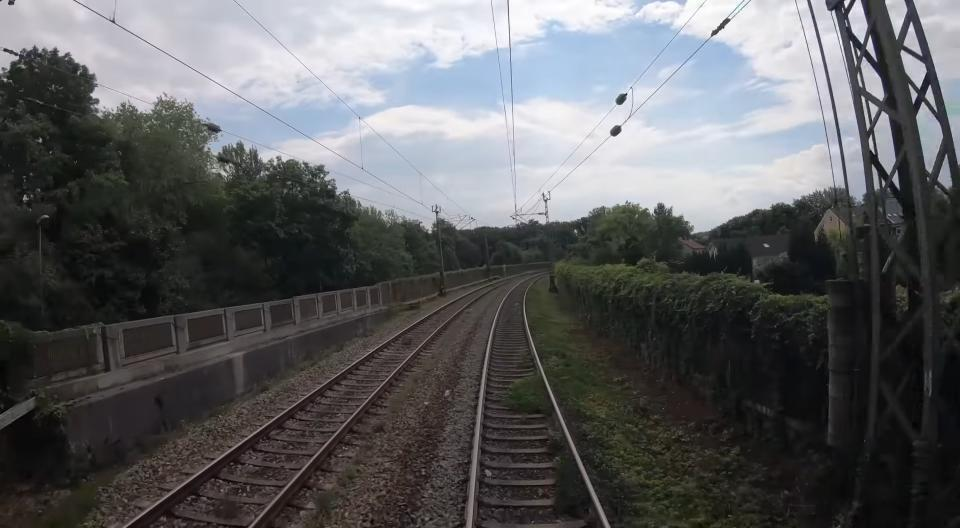Plant: (528, 284, 793, 528), (549, 436, 590, 515), (504, 374, 550, 413), (310, 489, 340, 521), (360, 420, 384, 433)
